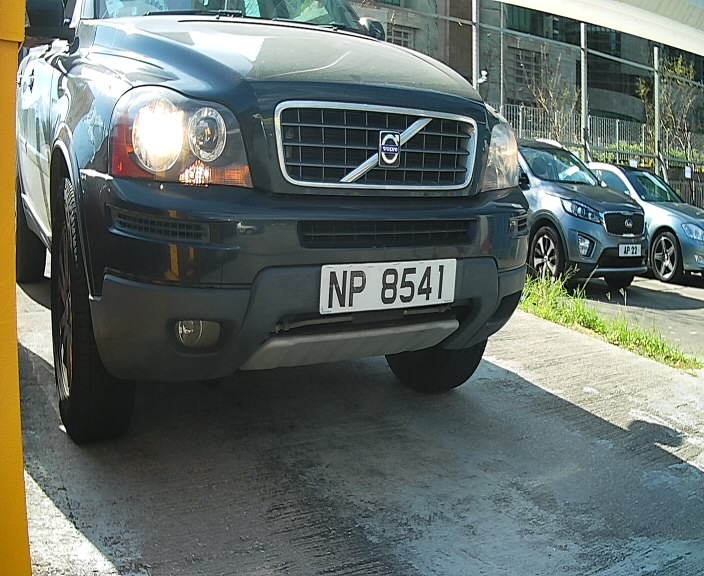Car: (2, 2, 580, 468)
License Plate: (302, 252, 470, 324)
